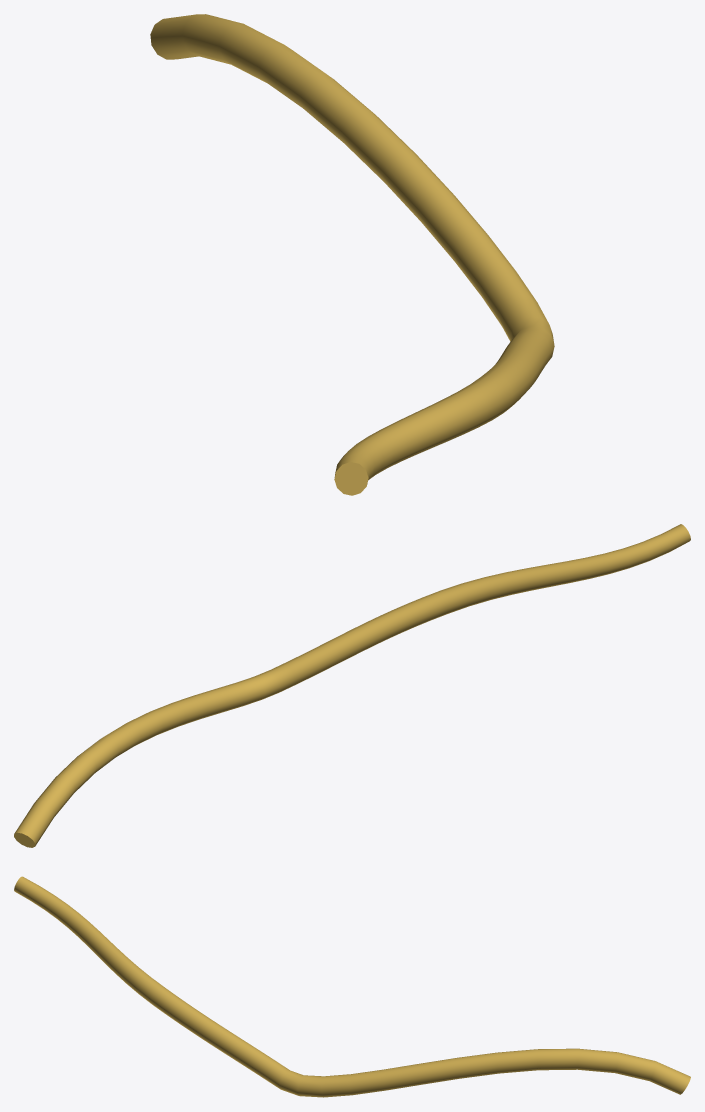
3 views of the same model, one above another, from view 1: azimuth 30°, elevation 25°; view 2: azimuth 150°, elevation 25°; view 3: azimuth 270°, elevation 25° (orthographic). The views are drawn at different scales.
Parts seen in each view (by area): view 1: 左侧下颌神经后干; view 2: 左侧下颌神经后干; view 3: 左侧下颌神经后干.
Part boxes in pixels (x1,y1,x2,y2): 左侧下颌神经后干: [150, 14, 554, 495]; 左侧下颌神经后干: [14, 524, 690, 847]; 左侧下颌神经后干: [14, 876, 690, 1097].
Bounding box in the file's own units: 0.0206 × 0.00803 × 0.0466.
